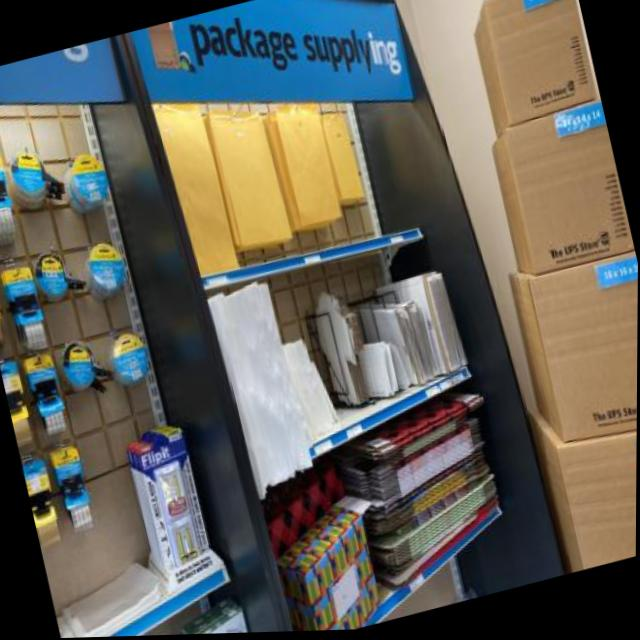box: (473, 69, 640, 305), (495, 233, 639, 466), (517, 374, 638, 581), (446, 0, 601, 144)
